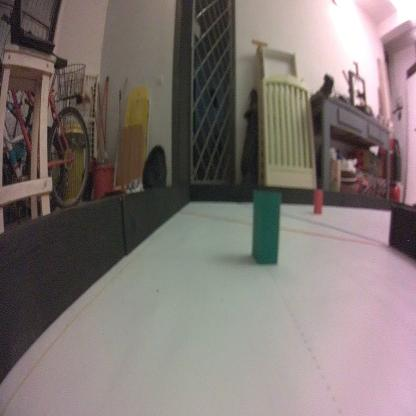green: (250, 185, 283, 268)
red: (312, 187, 324, 216)
